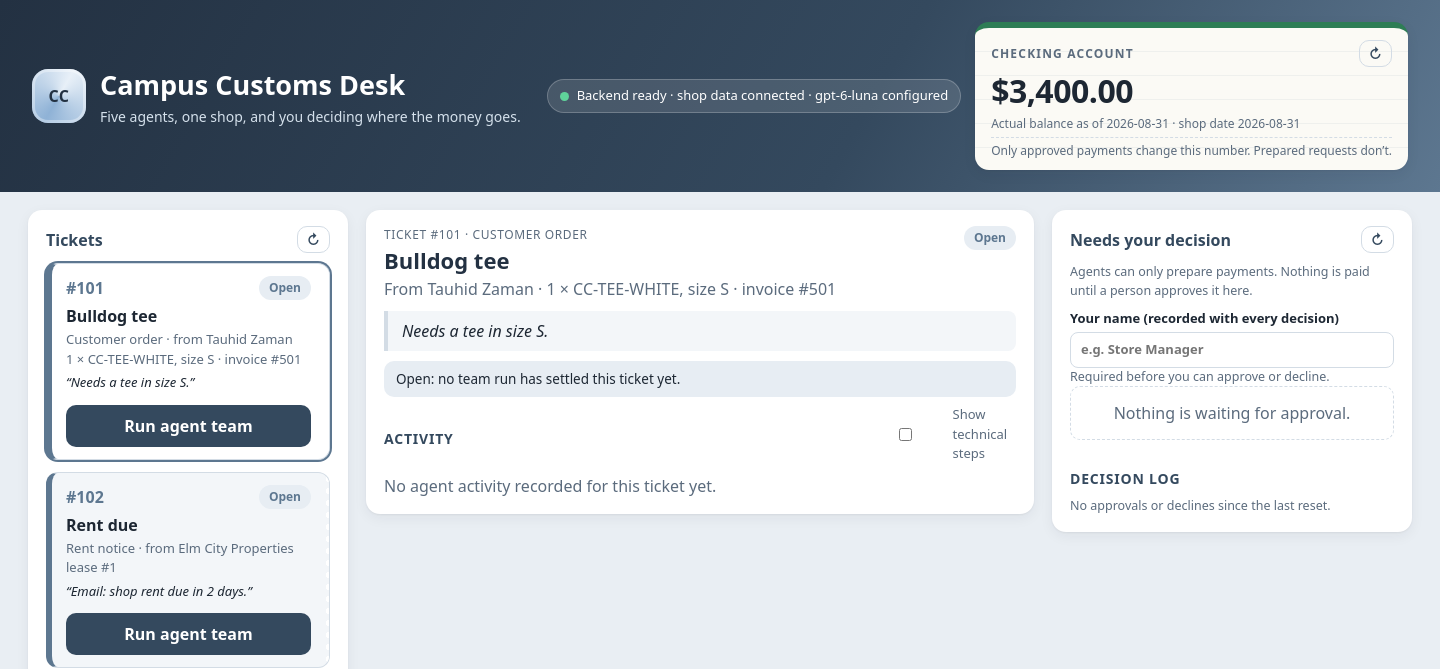
Test: running the team › polls events without duplicates while the run request is pending, then shows the backend's status
Click the 2nd button "Run agent team": (188, 634) left=66, top=613, right=311, bottom=655
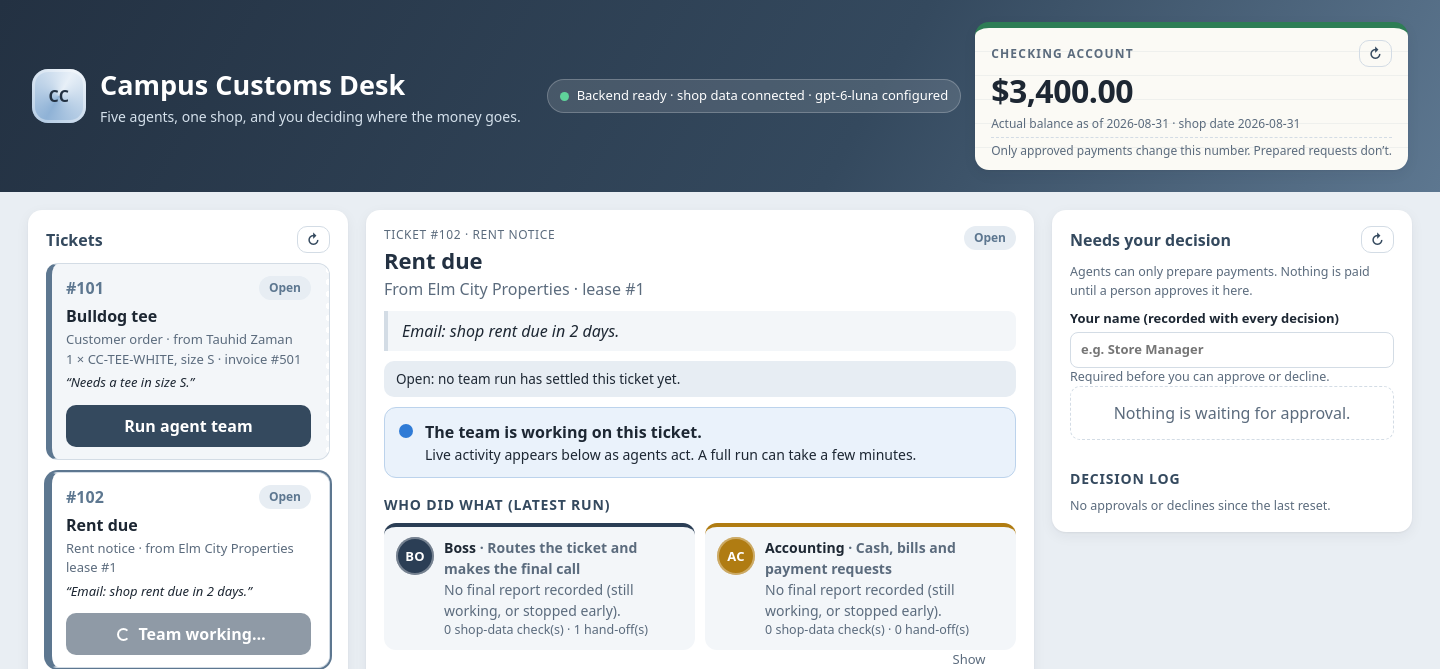
Expected: the text "The team is working on this ticket." is shown, left=425, top=421, right=702, bottom=443
Expected: the button "Team working…" is disabled
Click the button "Team working…": (188, 634) left=66, top=613, right=311, bottom=655
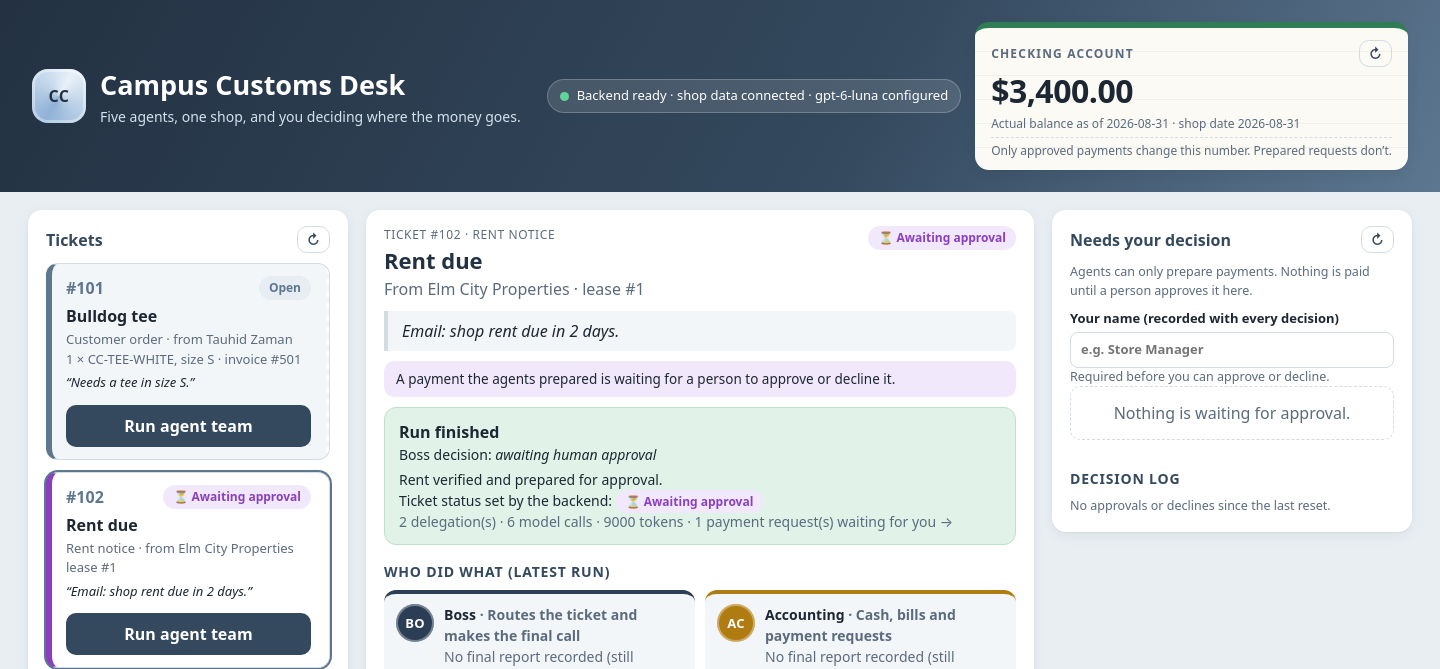
Expected: the text "Run finished" is shown, left=399, top=421, right=499, bottom=443
Expected: the text "Rent verified and prepared for approval." is shown, left=399, top=470, right=663, bottom=489
Expected: the text "Awaiting approval" below "Tickets" is shown, left=192, top=488, right=301, bottom=504
